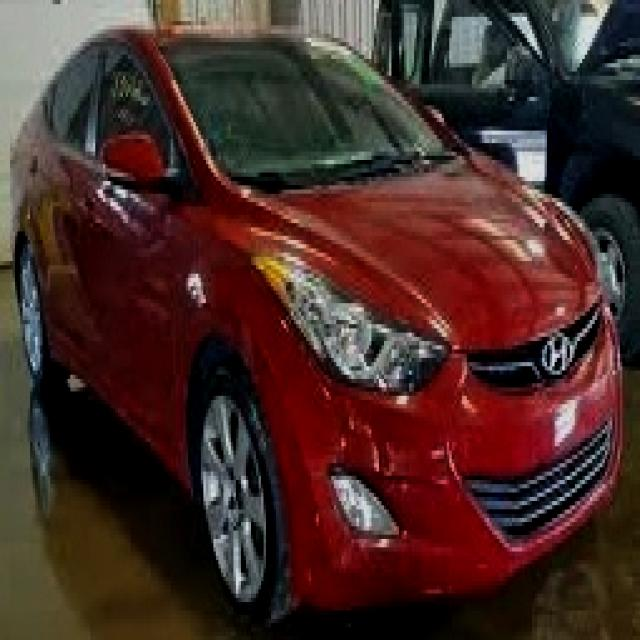red: (8, 11, 625, 609)
